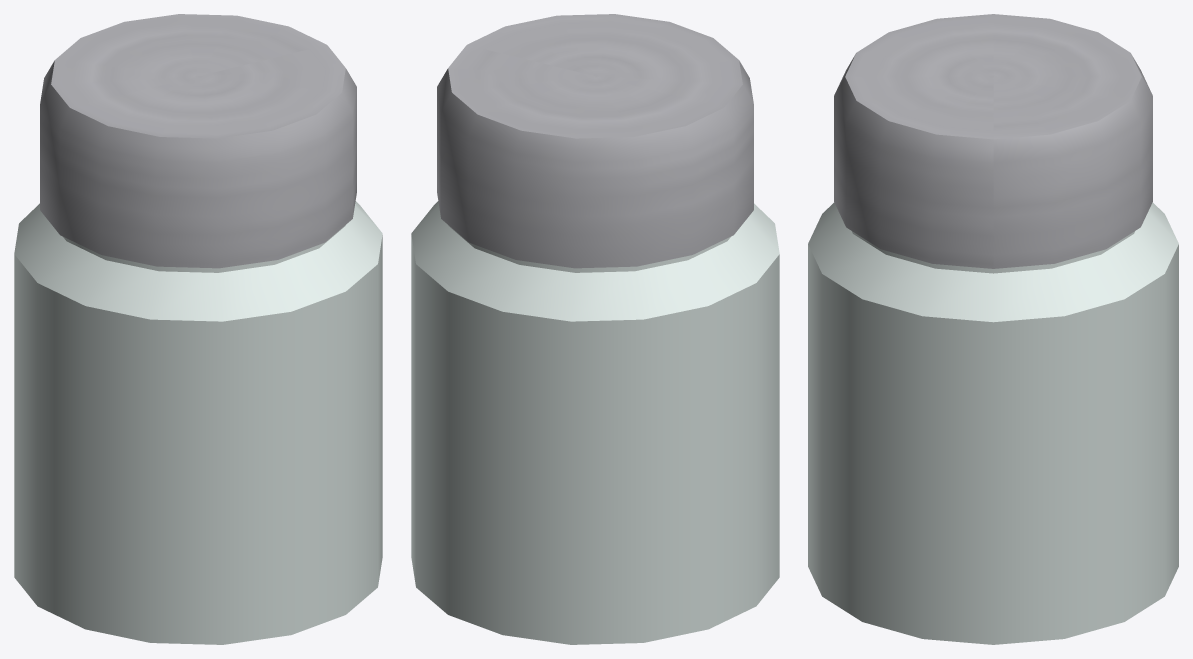
Rendered from SM_Jar_S_Pickle.fbx.
3 renders of one model, left to right at view 1: azimuth 30°, elevation 25°; view 2: azimuth 150°, elevation 25°; view 3: azimuth 270°, elevation 25°, orthographic.
Visible parts, largest first — view 1: SM_Jar_S_Pickle; view 2: SM_Jar_S_Pickle; view 3: SM_Jar_S_Pickle.
Part boxes in pixels (<box>): SM_Jar_S_Pickle: <box>14,14,382,644</box>; SM_Jar_S_Pickle: <box>411,14,779,644</box>; SM_Jar_S_Pickle: <box>808,14,1178,644</box>.
Size of the model in its own units: 0.07 by 0.102 by 0.07.
3 materials, 3 textured.
